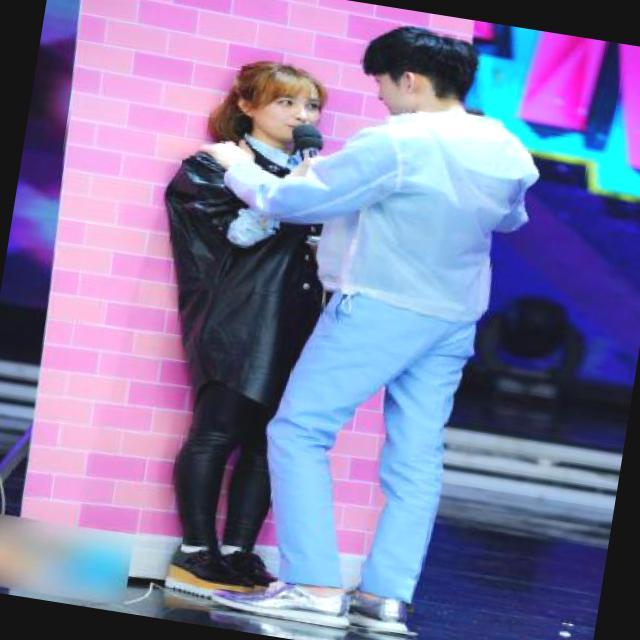Person: (118, 50, 360, 607)
